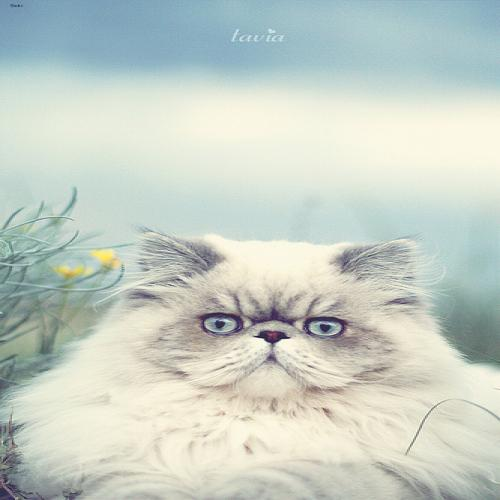persian: (112, 222, 456, 420)
